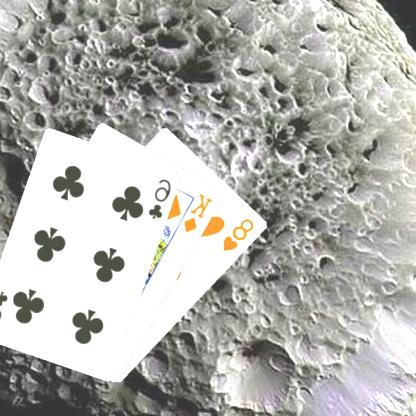6C: (147, 176, 175, 220), (0, 288, 12, 332)
8H: (222, 215, 258, 253)
KD: (183, 190, 216, 235)
